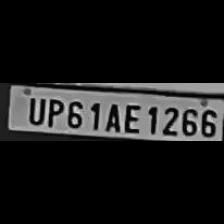1: (141, 103, 158, 135), (86, 99, 102, 130)
2: (160, 104, 178, 136)
6: (62, 98, 84, 130), (198, 106, 218, 138), (179, 105, 197, 137)
A: (101, 100, 121, 132)
E: (121, 101, 141, 133)
P: (42, 95, 62, 127)
U: (23, 94, 44, 125)
